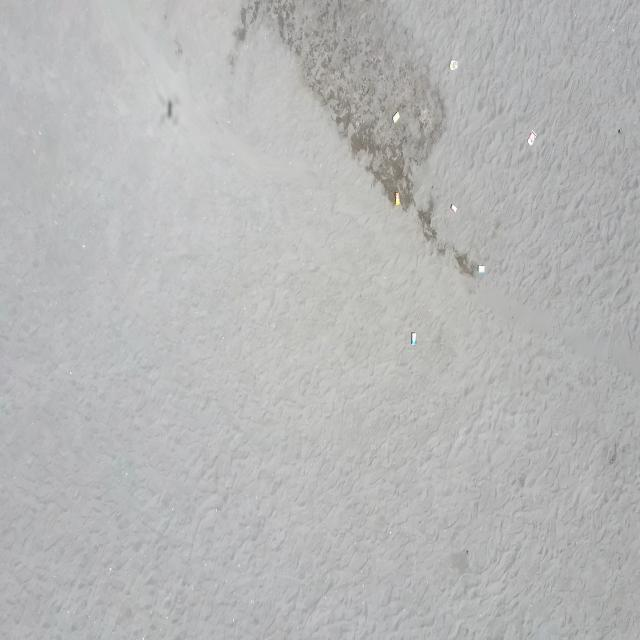retort-pouch: (527, 130, 537, 146), (391, 110, 401, 126), (394, 190, 402, 208), (449, 58, 458, 74), (478, 264, 486, 276), (411, 330, 417, 346), (450, 203, 458, 214)
